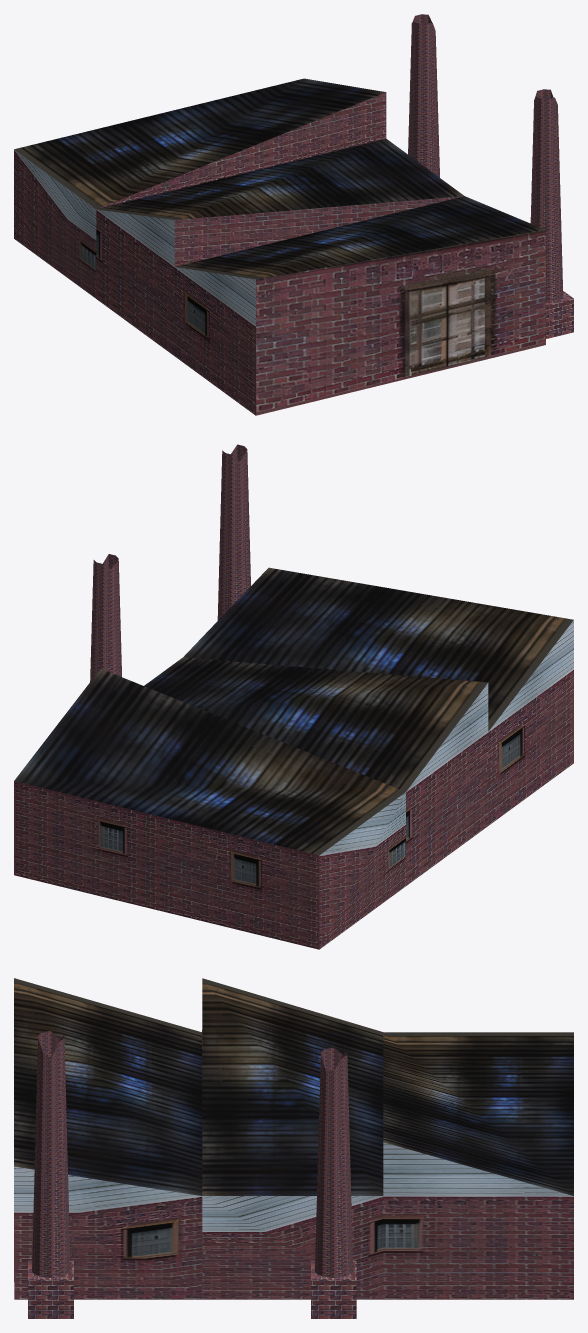
File: factoryburn1.gltf
3 views of the same model, one above another, from view 1: azimuth 30°, elevation 25°; view 2: azimuth 150°, elevation 25°; view 3: azimuth 270°, elevation 25° (orthographic). The views are drawn at different scales.
Parts seen in each view (by area): view 1: factoryburn1_atomic0; view 2: factoryburn1_atomic0; view 3: factoryburn1_atomic0.
Boxes of the visible parts, x1,y1,x2,y2 form: factoryburn1_atomic0: [14, 14, 573, 415]; factoryburn1_atomic0: [14, 444, 573, 949]; factoryburn1_atomic0: [14, 978, 573, 1318].
Size of the model in its own units: 96.76 by 67.18 by 125.
Materials: 3 (3 with a texture image).
